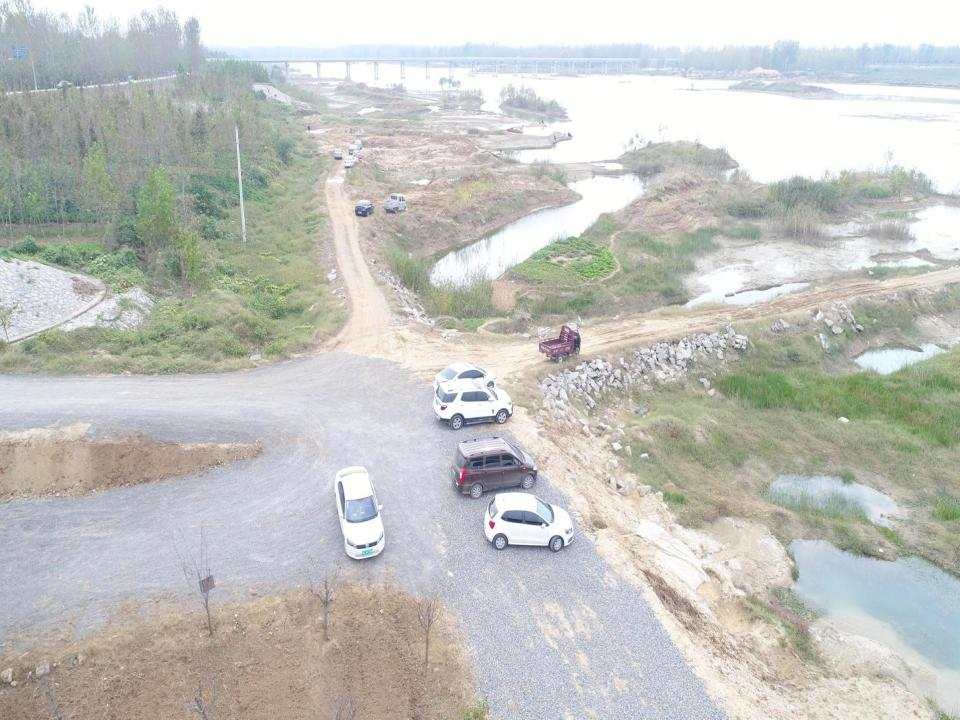car: (483, 494, 574, 552), (452, 437, 538, 498), (333, 466, 386, 558), (432, 386, 513, 430), (433, 361, 494, 399), (354, 199, 374, 216), (343, 157, 354, 168), (333, 148, 343, 160), (348, 145, 358, 156)
truck: (382, 194, 406, 214)
